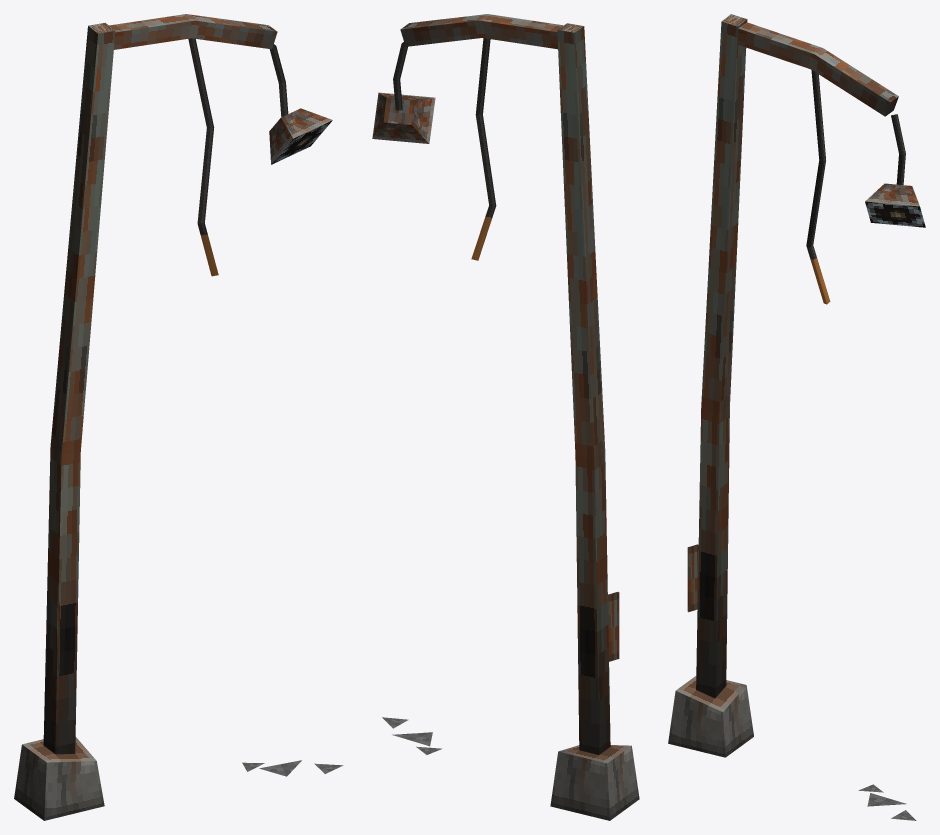
Rendered from env_streetlight_poor.glb.
3 renders of one model, left to right at view 1: azimuth 30°, elevation 25°; view 2: azimuth 150°, elevation 25°; view 3: azimuth 330°, elevation 25°, orthographic. The views are drawn at different scales.
Parts seen in each view (by area): view 1: env_streetlight_poor; view 2: env_streetlight_poor; view 3: env_streetlight_poor.
Part boxes in pixels (x1,y1,x2,y2): env_streetlight_poor: [14, 14, 343, 820]; env_streetlight_poor: [372, 14, 639, 820]; env_streetlight_poor: [668, 14, 925, 820].
Bounding box in the file's own units: 0.00613 × 0.0161 × 0.00202.
1 material, 1 textured.
